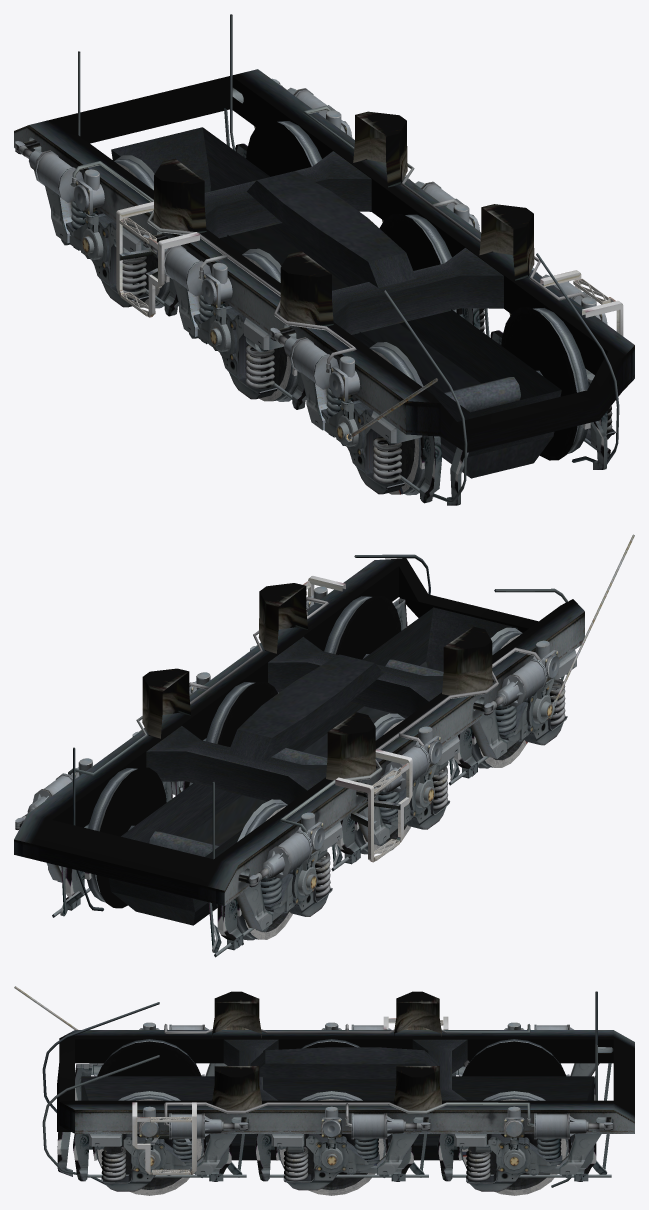
The model's file is 绿皮火车车头转向架.fbx.
The picture shows the model from 3 angles, top to bottom: view 1: azimuth 30°, elevation 25°; view 2: azimuth 150°, elevation 25°; view 3: azimuth 270°, elevation 25°; orthographic projection. The views are drawn at different scales.
Parts seen in each view (by area): view 1: 绿皮火车车头构架, 轮子1, 轮子3, 轮子2; view 2: 绿皮火车车头构架, 轮子3, 轮子1, 轮子2; view 3: 绿皮火车车头构架, 轮子3, 轮子1, 轮子2.
Boxes of the visible parts, x1=… form: 绿皮火车车头构架: x1=14, y1=14, x2=634, y2=505; 轮子1: x1=350, y1=307, x2=588, y2=495; 轮子3: x1=95, y1=120, x2=321, y2=308; 轮子2: x1=223, y1=214, x2=456, y2=401; 绿皮火车车头构架: x1=14, y1=534, x2=634, y2=957; 轮子3: x1=87, y1=767, x2=292, y2=940; 轮子1: x1=324, y1=595, x2=527, y2=768; 轮子2: x1=206, y1=681, x2=410, y2=854; 绿皮火车车头构架: x1=14, y1=986, x2=634, y2=1191; 轮子3: x1=461, y1=1039, x2=567, y2=1195; 轮子1: x1=96, y1=1039, x2=202, y2=1195; 轮子2: x1=278, y1=1039, x2=385, y2=1195.
Bounding box in the file's own units: 291 × 203 × 761.
